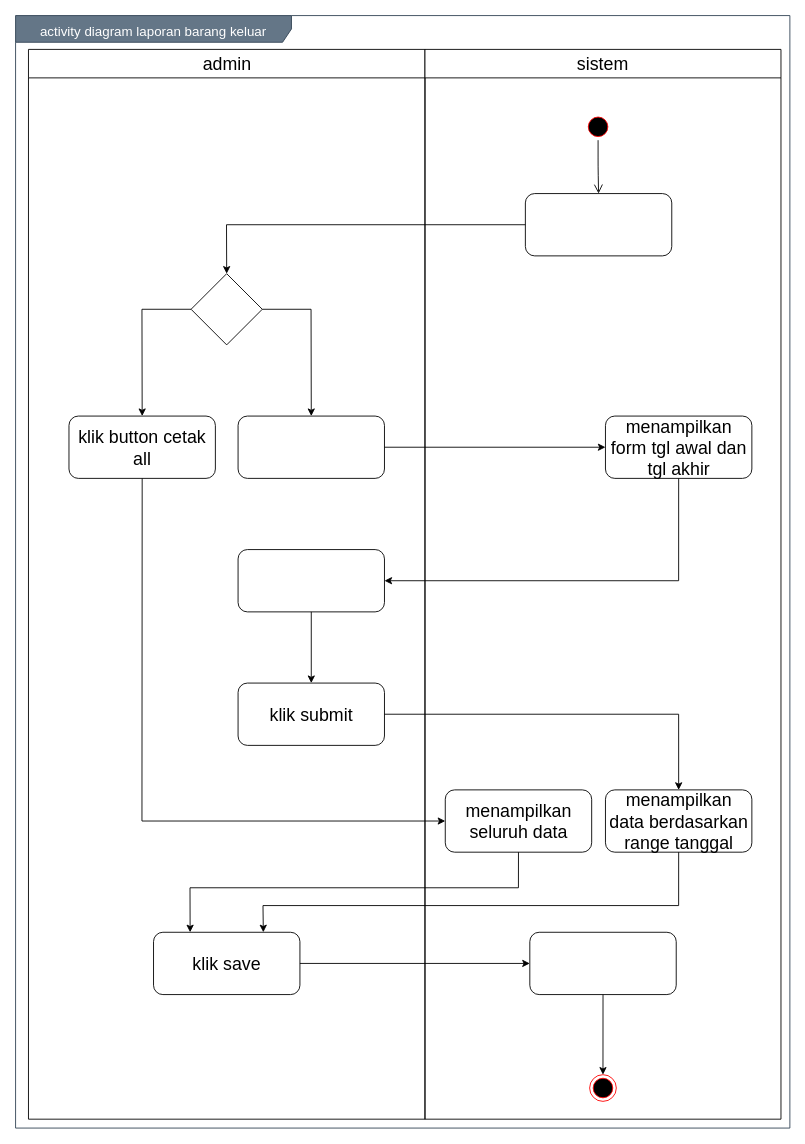
Some shapes in this 805 by 1144 pixel diagram are drawn without their labels. Each missing label, with the centre of its shape:
data tersimpan dalam device: the point at 602,963
klik button cetak pertanggal: the point at 310,446
menampilkan data barang keluar: the point at 598,224
mengisi form: the point at 310,580
